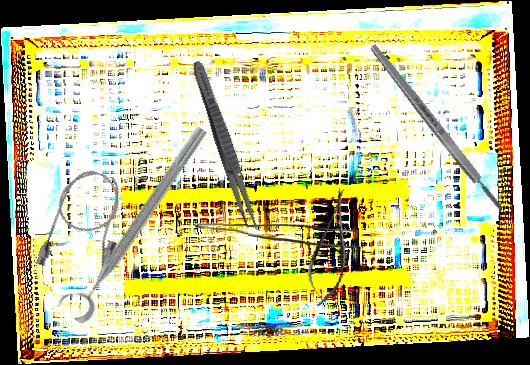Cannula: (33, 162, 137, 293)
Dressing Forceps: (187, 58, 264, 235)
Fixation Ring: (53, 115, 214, 327)
Micro Scissor: (300, 184, 362, 311)
Scalpel Handle: (367, 40, 507, 216)
Tissue Forceps: (194, 222, 359, 249)
